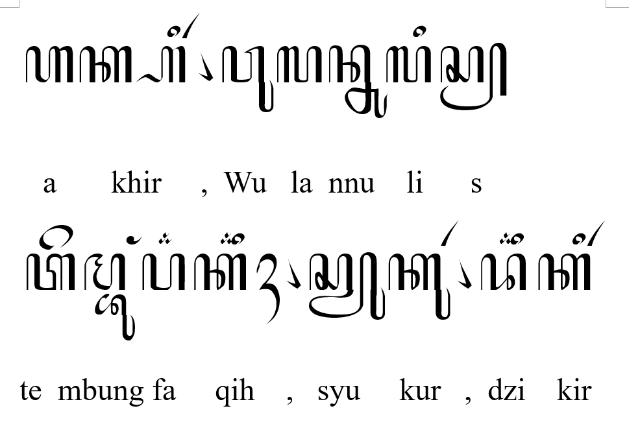-s: (439, 42, 506, 110)
_bu: (94, 293, 136, 341)
_h: (134, 46, 186, 82)
_h1: (256, 252, 280, 324)
_r1: (439, 220, 458, 246), (182, 13, 200, 39), (587, 220, 605, 246)
alt: (158, 231, 172, 245), (499, 232, 513, 244), (220, 232, 233, 244)
d: (480, 253, 526, 290)
e: (40, 225, 74, 251)
h: (26, 46, 74, 82)
i: (413, 25, 427, 37), (572, 234, 586, 244), (168, 25, 180, 36), (511, 234, 524, 244), (232, 234, 244, 244)
k: (78, 45, 132, 83), (538, 254, 592, 290), (194, 253, 246, 290)
kom: (286, 258, 302, 290), (198, 52, 214, 82), (458, 258, 472, 290)
ku: (388, 254, 452, 320)
l: (278, 45, 322, 83), (385, 46, 431, 82)
m: (84, 253, 126, 291)
ng: (126, 236, 142, 244)
nnu: (328, 44, 388, 118)
p: (140, 253, 186, 291)
syu: (308, 252, 386, 320)
t: (26, 254, 76, 290)
wu: (222, 46, 274, 112)
